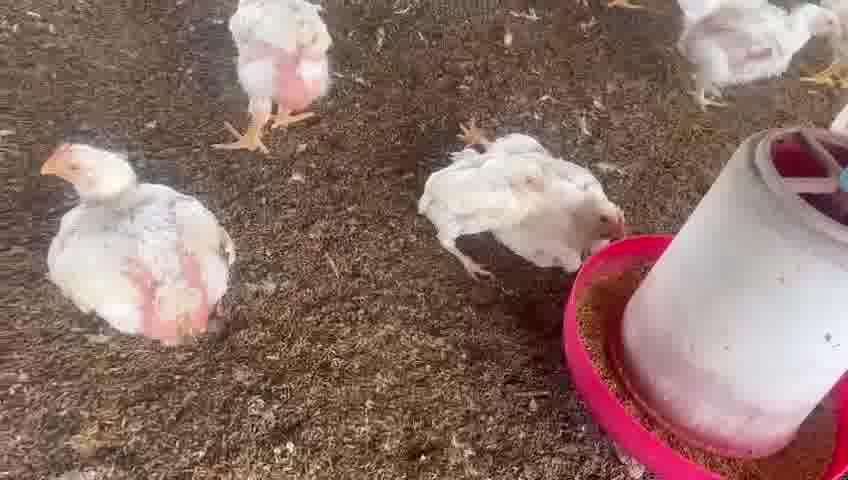AbNormal: (452, 109, 628, 264), (408, 156, 546, 283)
Normal: (40, 135, 249, 341), (219, 0, 363, 156), (680, 0, 839, 112)
